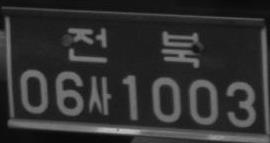0: (150, 75, 181, 123), (188, 78, 218, 125), (19, 68, 49, 114)
1: (117, 74, 145, 120)
3: (226, 80, 256, 127)
6: (54, 70, 84, 115)
사: (87, 76, 111, 115)
전북_D: (67, 27, 200, 68)
